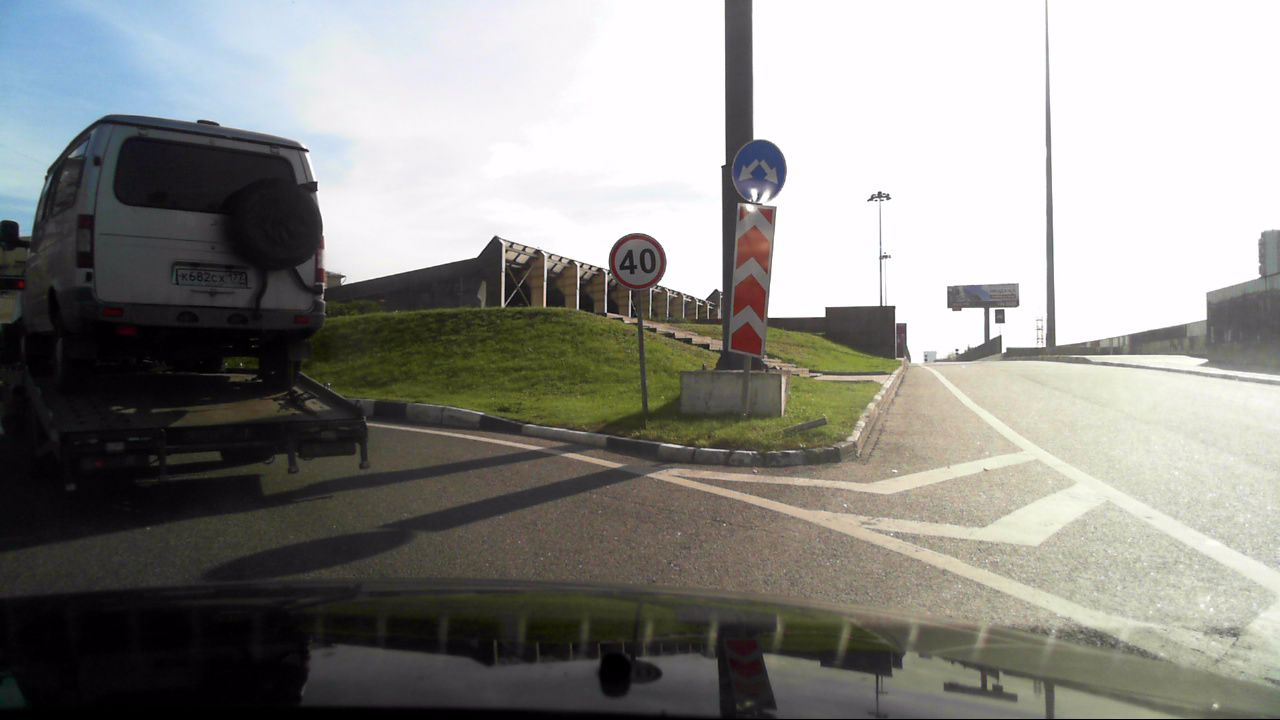speed_warning_40: (607, 234, 668, 292)
